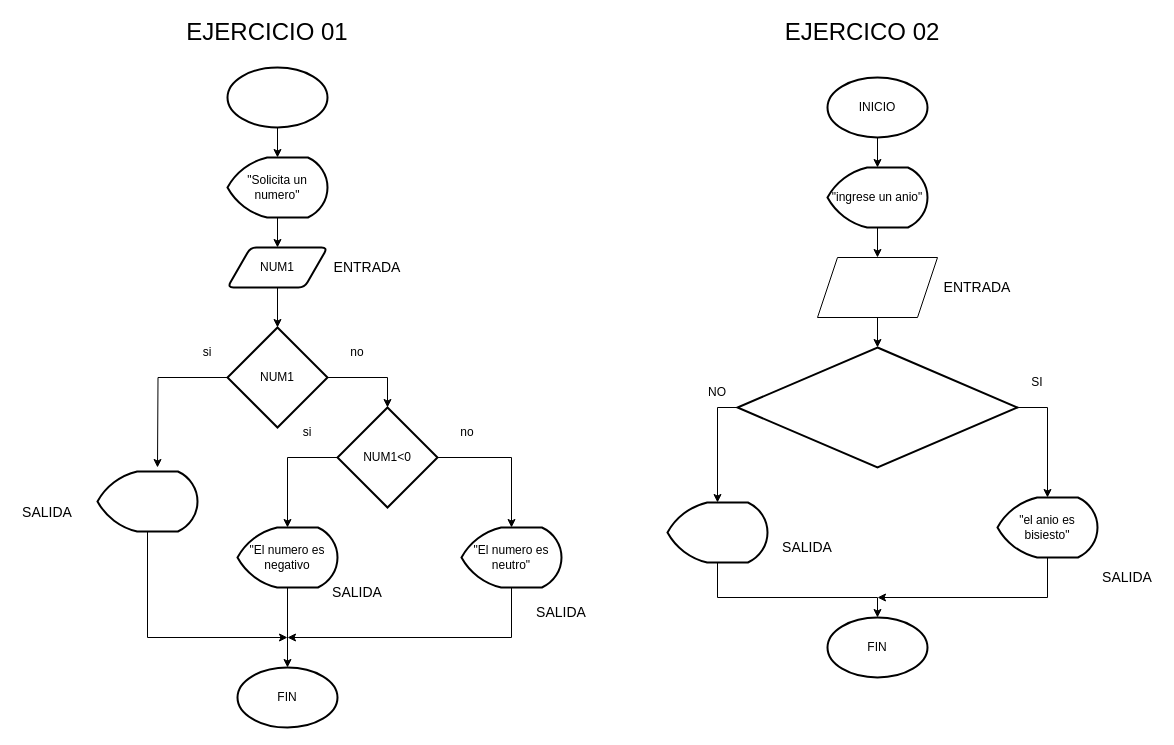
Image size: 1174x745. Some labels were removed from this diagram. The shapes that lost their labels are listed below. From the top down, each one's centre as x and y in pixels, then its label:
point 277,97: INCIO
point 877,287: anio
point 877,407: anio%4==0 && anioo % 100 !=0 // anio%400==0
point 147,501: "El numero es positivo"
point 717,532: "el anio no es bisiesto"
